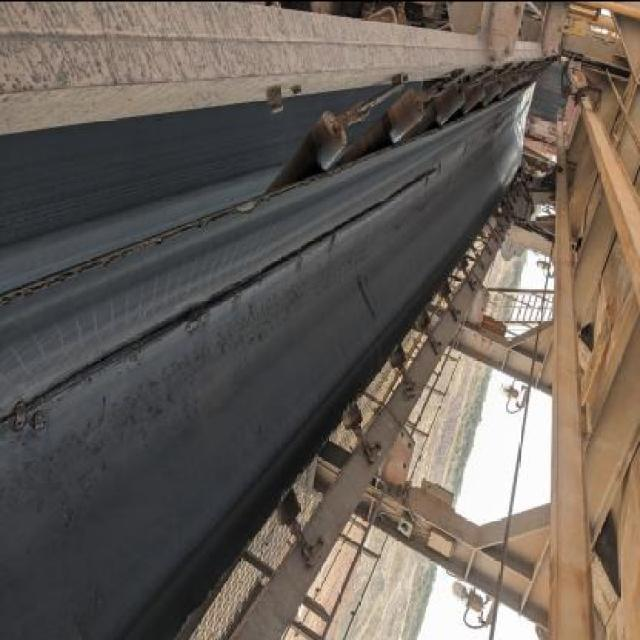Tear: (0, 161, 443, 434)
